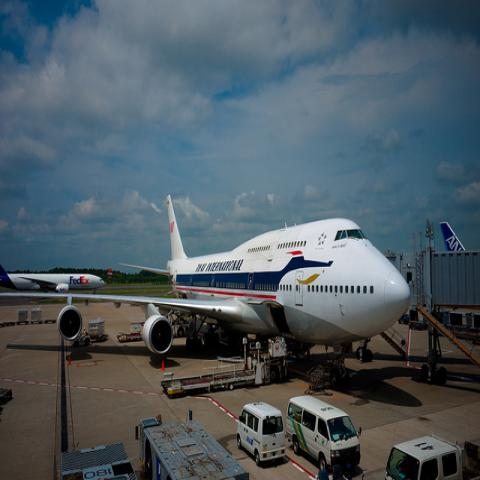bus: (286, 393, 360, 471)
car: (238, 399, 286, 465)
truck: (136, 417, 244, 475), (286, 394, 362, 470), (384, 431, 479, 479), (58, 442, 140, 479), (70, 317, 108, 347), (167, 381, 210, 400), (117, 330, 143, 342)
